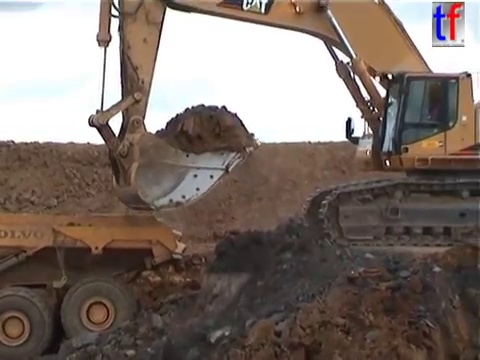excavator: (84, 1, 480, 251)
truck: (1, 209, 189, 360)
